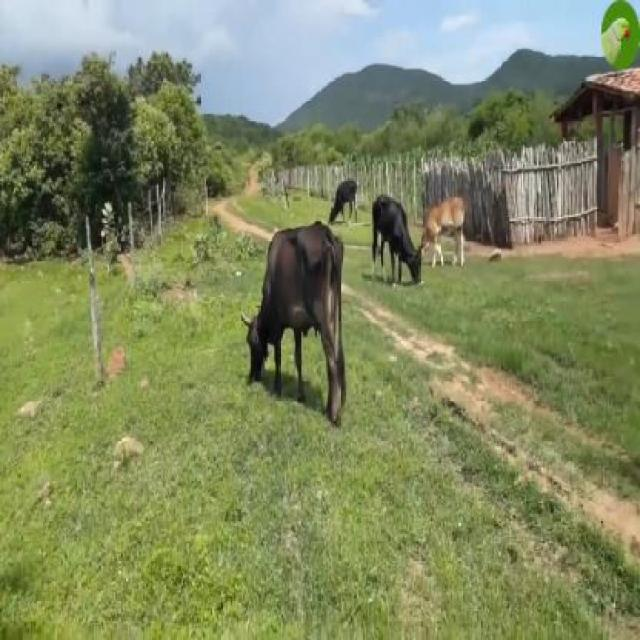Cow: (240, 220, 345, 415)
